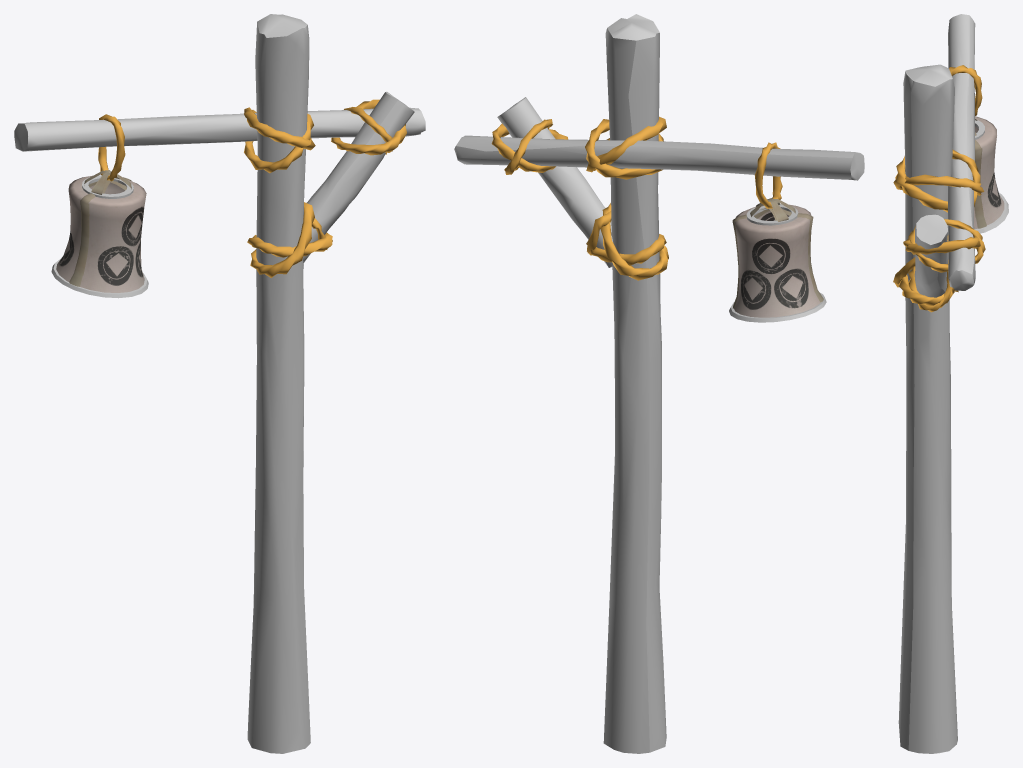
File: SM_EastLands_WoodenLamp.fbx
3 views of the same model, side by side, from view 1: azimuth 30°, elevation 25°; view 2: azimuth 150°, elevation 25°; view 3: azimuth 270°, elevation 25° (orthographic). The views are drawn at different scales.
Parts seen in each view (by area): view 1: SM_EastLands_WoodenLamp_LOD0; view 2: SM_EastLands_WoodenLamp_LOD0; view 3: SM_EastLands_WoodenLamp_LOD0.
Part boxes in pixels (bbox=[...]): SM_EastLands_WoodenLamp_LOD0: bbox=[14, 14, 425, 753]; SM_EastLands_WoodenLamp_LOD0: bbox=[454, 14, 864, 753]; SM_EastLands_WoodenLamp_LOD0: bbox=[893, 14, 1008, 753].
Size of the model in its own units: 90.51 by 154 by 24.
